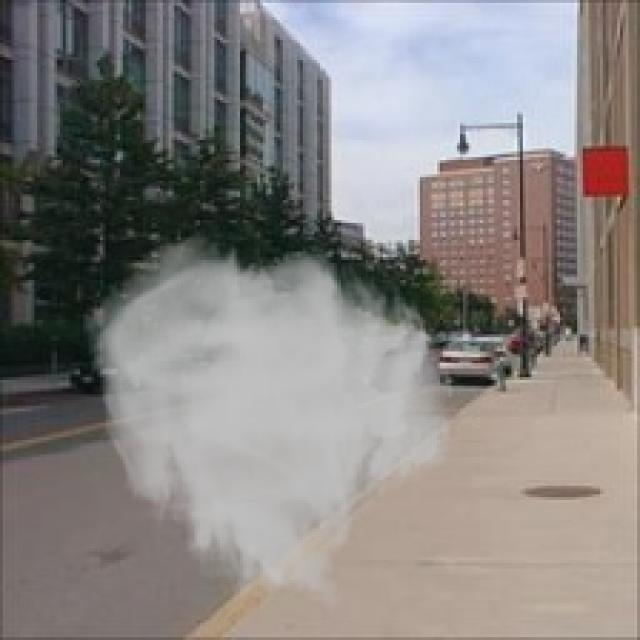smoke: (86, 232, 457, 614)
